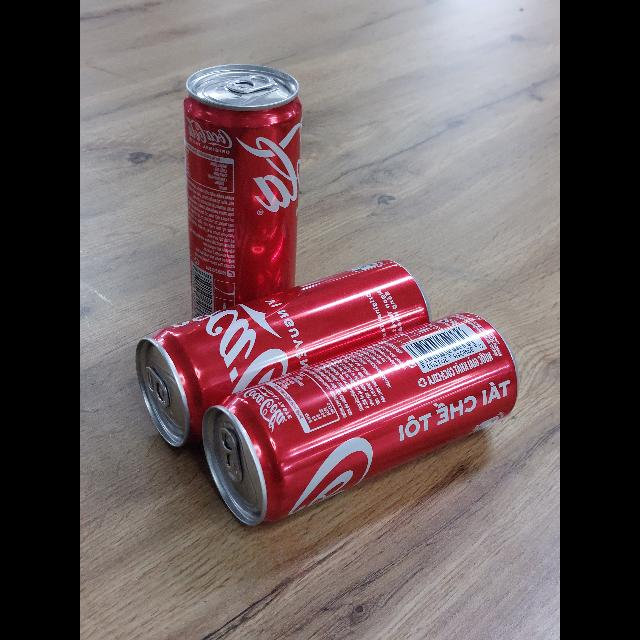coca_cola: (201, 313, 521, 525), (134, 260, 430, 451), (183, 64, 302, 316)
